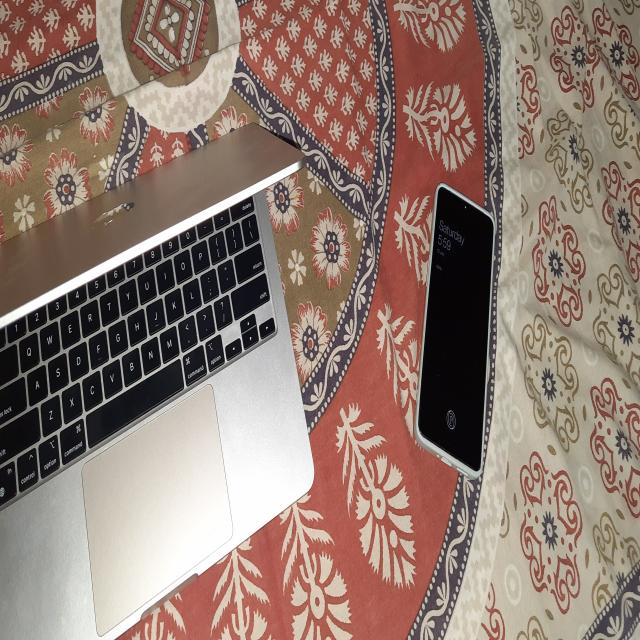Laptop-and-Mobile: (0, 102, 303, 640), (416, 182, 496, 484)
